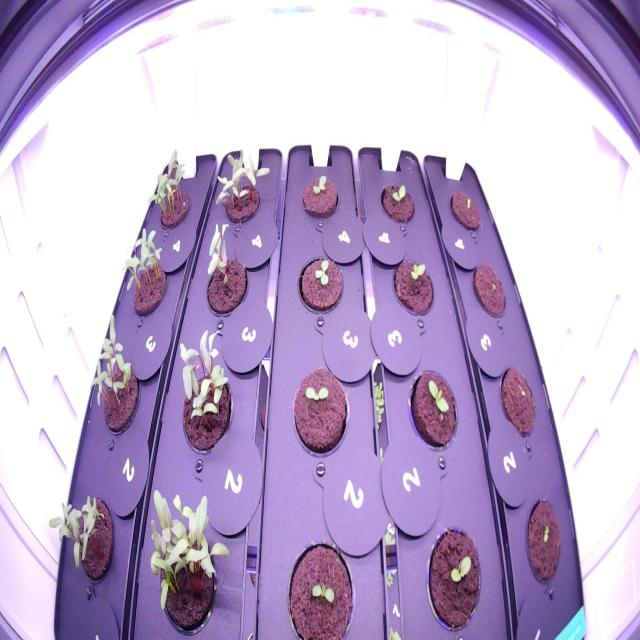germination: (137, 476, 238, 637), (280, 524, 363, 639), (169, 321, 237, 461), (43, 478, 118, 594), (87, 306, 148, 448), (202, 134, 280, 238), (422, 514, 488, 634), (285, 356, 354, 466), (403, 361, 463, 464), (118, 218, 175, 325), (194, 218, 251, 323), (141, 146, 200, 241), (520, 494, 573, 596), (290, 243, 350, 320), (387, 248, 441, 333), (297, 162, 344, 230), (373, 176, 420, 228), (444, 180, 484, 236)
pod: (496, 358, 540, 450), (468, 256, 511, 324)
